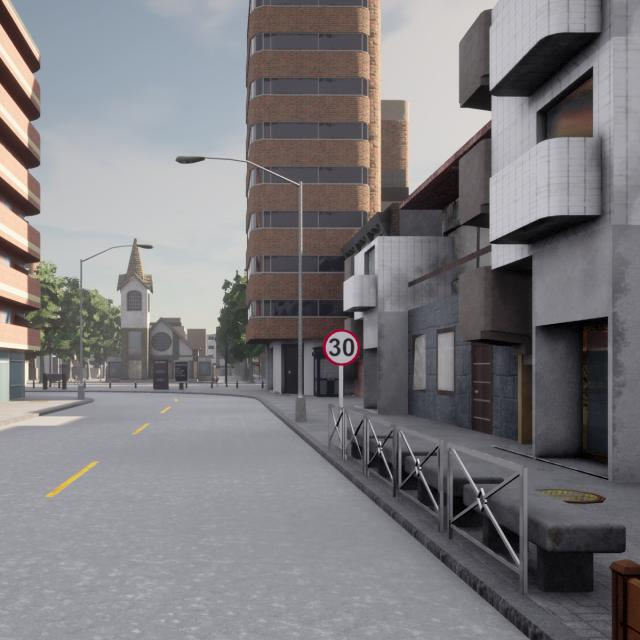Speed Limit -30-: (323, 329, 359, 366)
